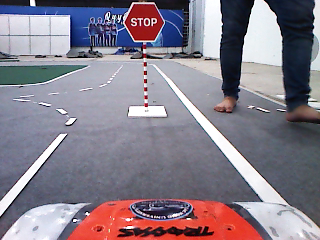stop: (122, 2, 166, 42)
